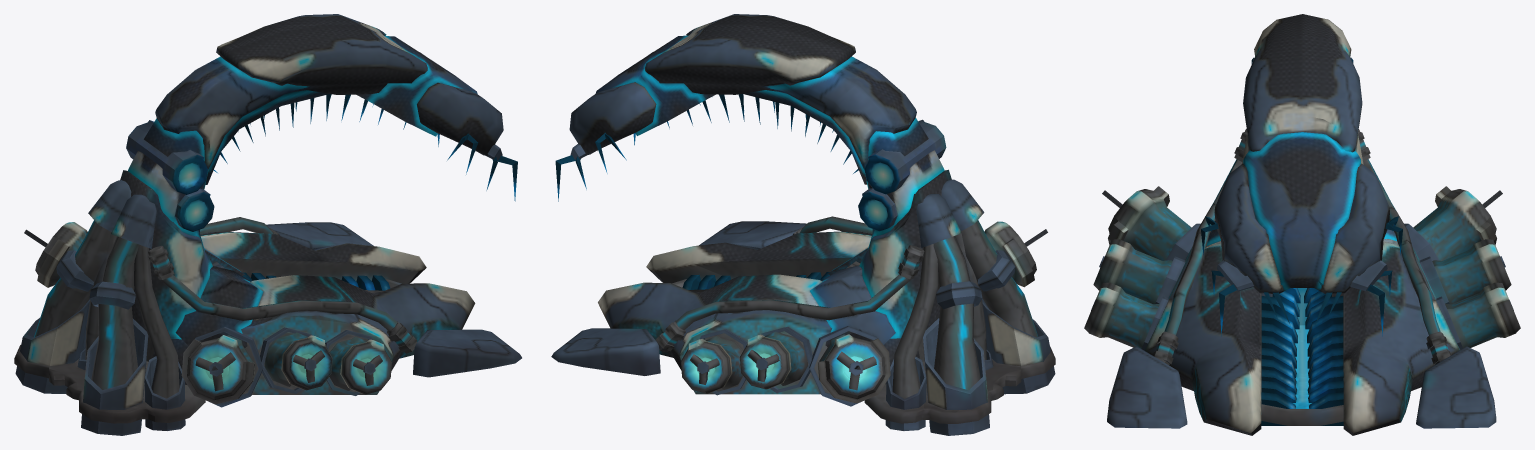
File: nanostation.dae
The picture shows the model from 3 angles, left to right: view 1: azimuth 30°, elevation 25°; view 2: azimuth 150°, elevation 25°; view 3: azimuth 270°, elevation 25°; orthographic projection. The views are drawn at different scales.
Parts seen in each view (by area): view 1: portal; view 2: portal; view 3: portal.
Part boxes in pixels (x1,y1,x2,y2): portal: (14,14,521,435); portal: (551,14,1055,435); portal: (1084,14,1520,435).
Size of the model in its own units: 6.45 by 5.28 by 4.62.
Materials: 1 (1 with a texture image).
